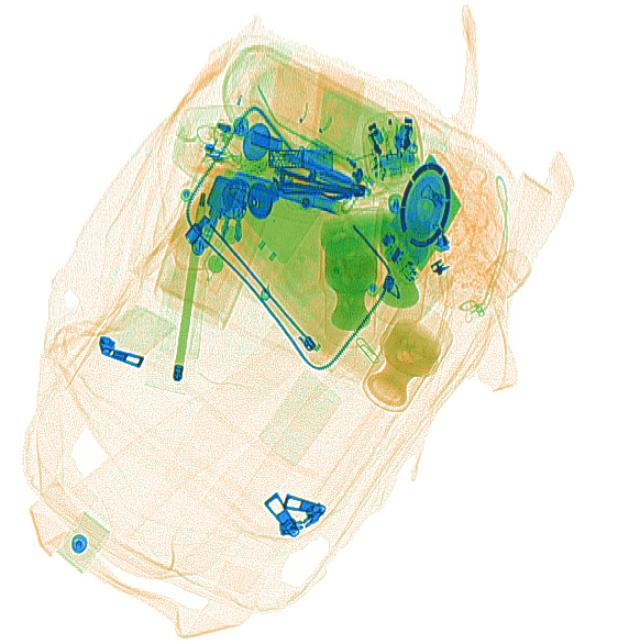seal: (365, 312, 446, 409), (374, 208, 431, 305), (325, 253, 380, 329)
